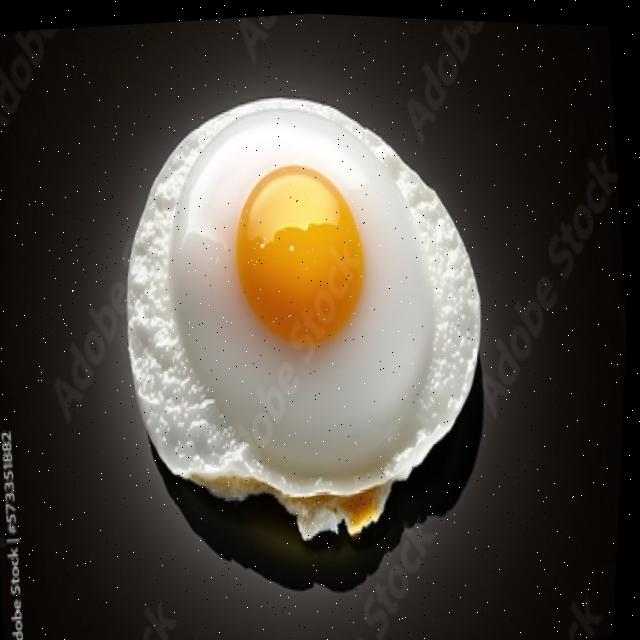Egg: (130, 96, 483, 535)
